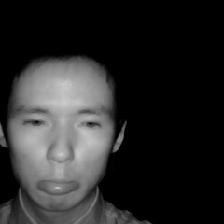sad: (5, 50, 130, 217)
